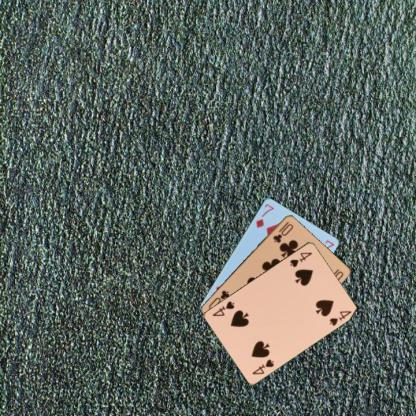10c: (270, 218, 295, 244)
4s: (287, 249, 313, 268), (250, 356, 276, 375)
7d: (253, 201, 275, 229)
